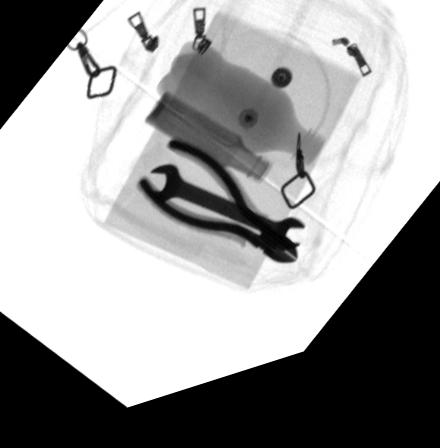Pliers: (132, 148, 297, 282)
Wrench: (144, 171, 305, 271)
